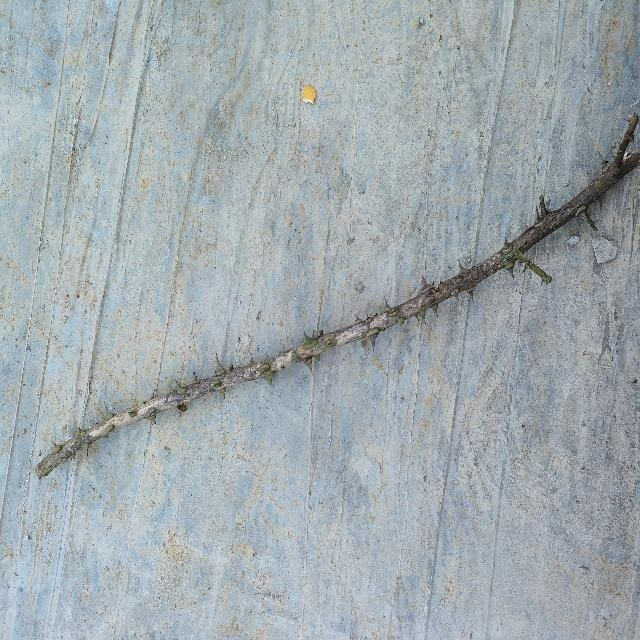branch: (43, 174, 613, 471)
